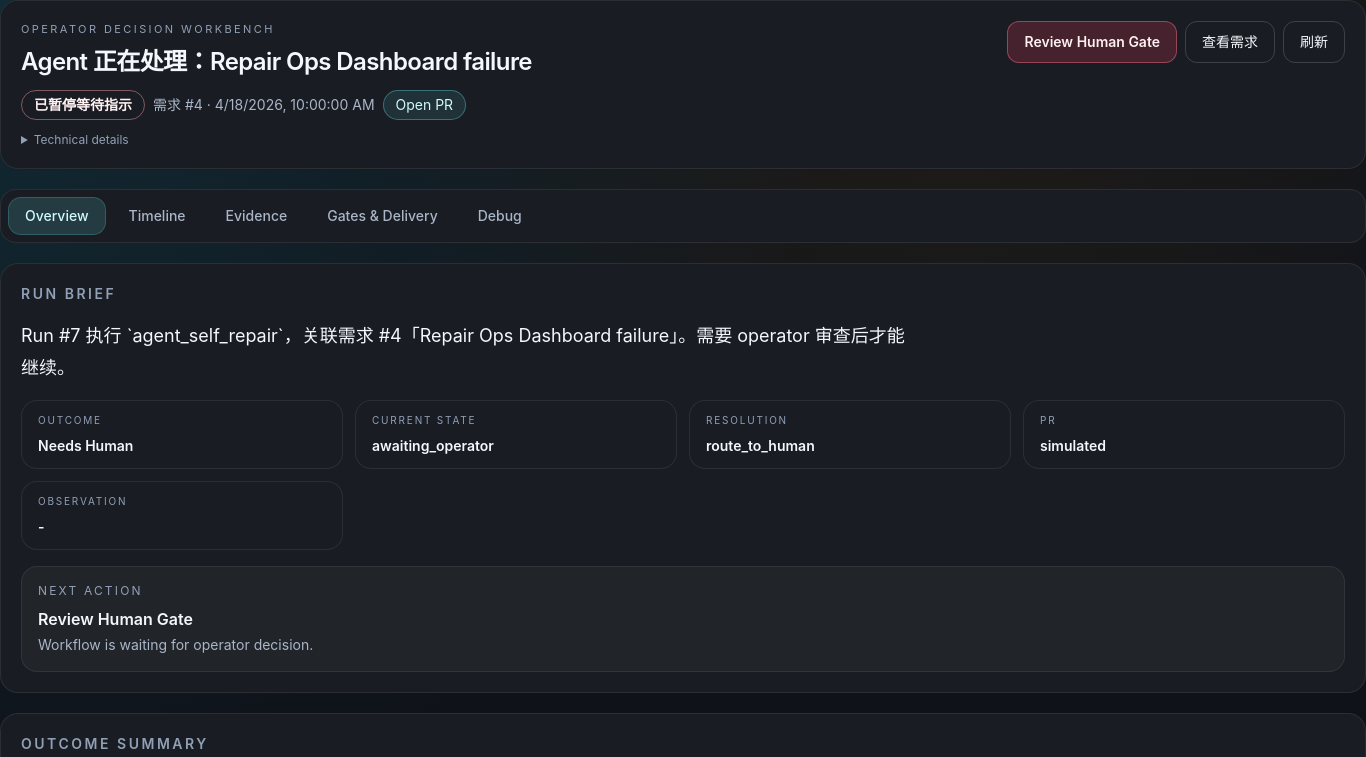
WorkflowRunDetailPage › shows the chronological workflow timeline without a step inspector
Expected: the element with test id "workflow-run-tabs" is shown, x1=0 y1=188 x2=1365 y2=242
What coordinates should you click on to do the following:
click the button "Timeline"
I would click on:
 (157, 216)
Its box is x1=112 y1=198 x2=202 y2=234.
(page scrolled)
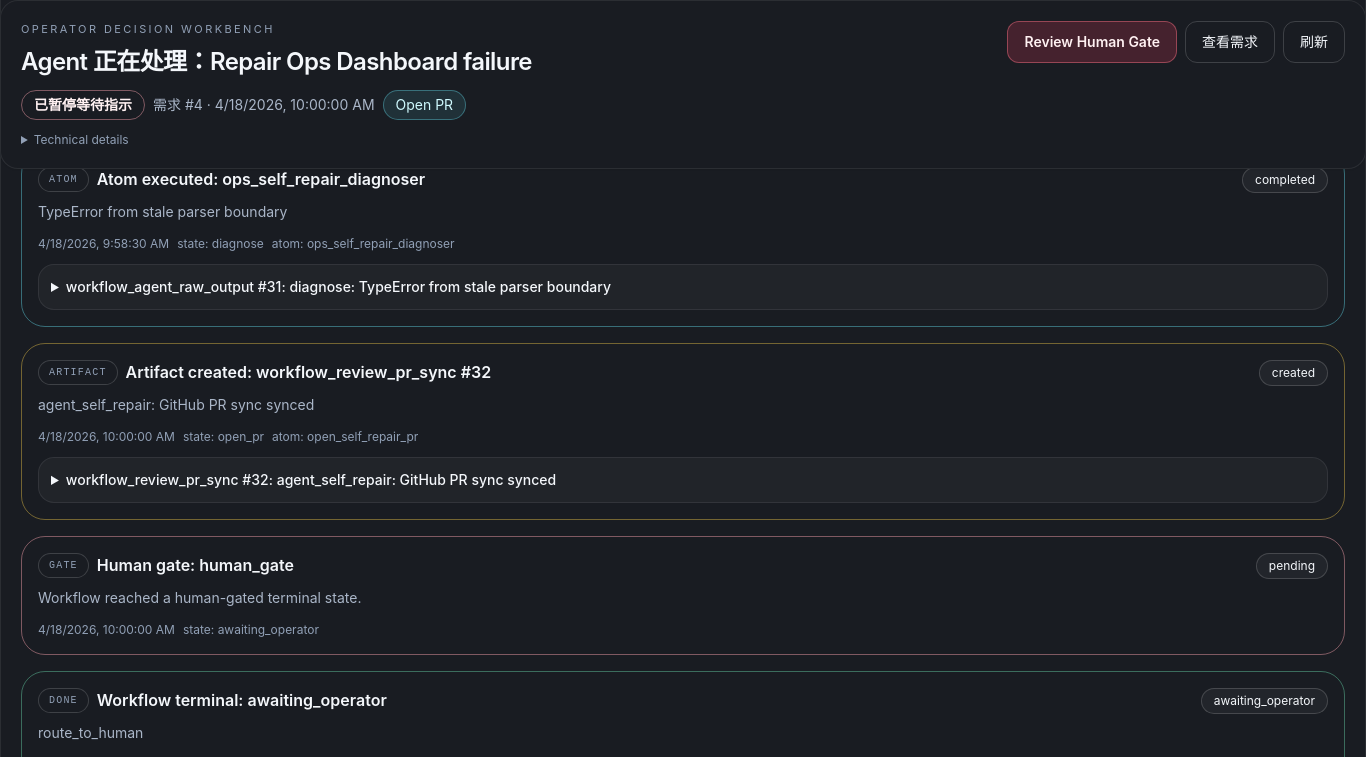
Expected: the element with test id "workflow-timeline-panel" shows "State transition: open_pr -> awaiting_operator", x1=104 y1=34 x2=457 y2=54
Now the element with test id "workflow-timeline-panel" shows "Atom executed: ops_self_repair_diagnoser", box x1=97 y1=169 x2=425 y2=189
Now the element with test id "workflow-timeline-panel" shows "Artifact created: workflow_review_pr_sync #32", box x1=126 y1=362 x2=491 y2=382
